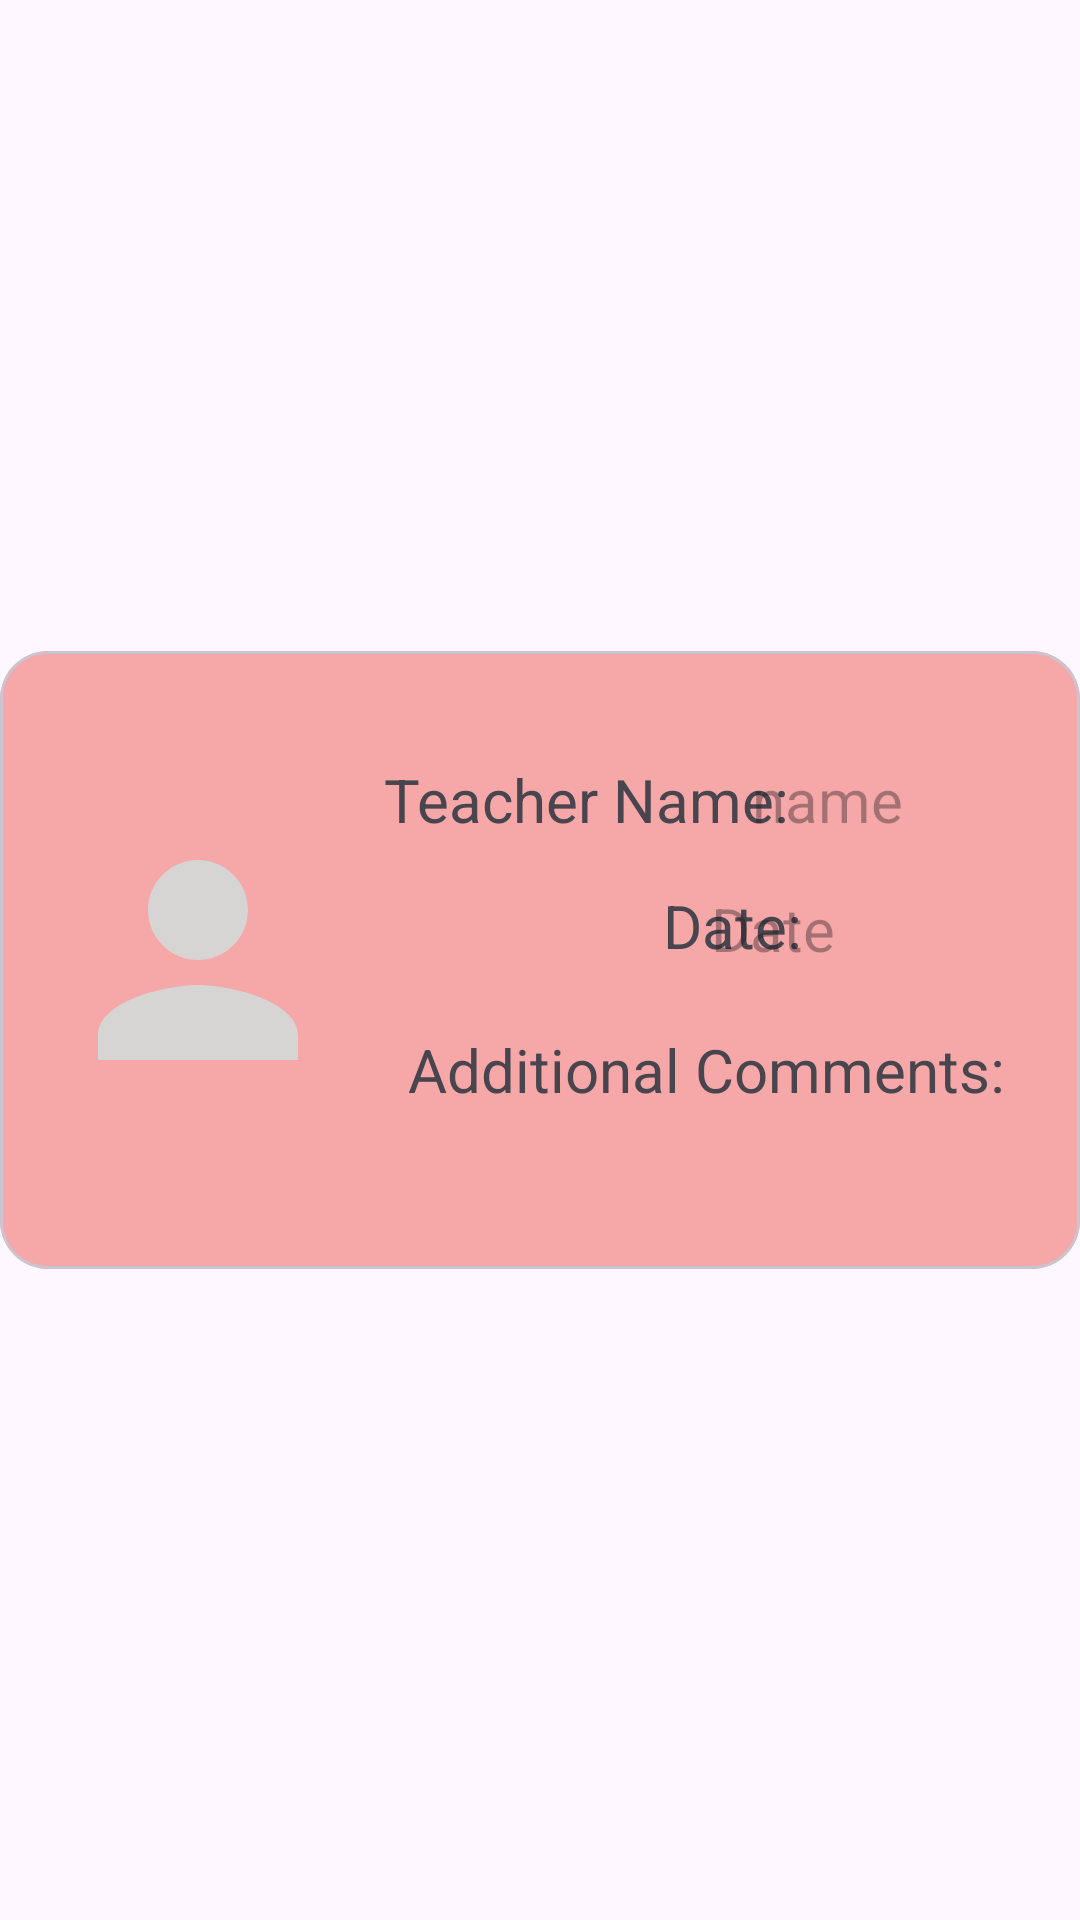

Named icons in this screenshot (1080x1920) and their bounding boxes, box=[x1, y1, x2, y2]:
person: box=[98, 860, 298, 1060]
